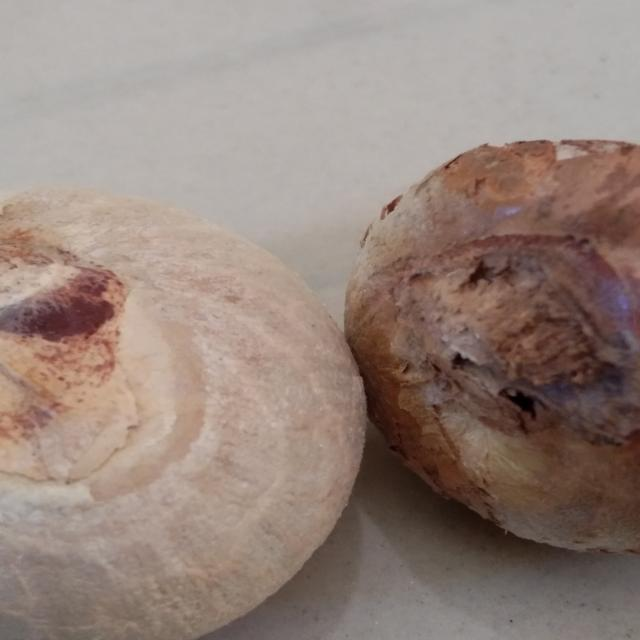karigot: (354, 130, 640, 563)
phatora: (0, 182, 386, 640)
